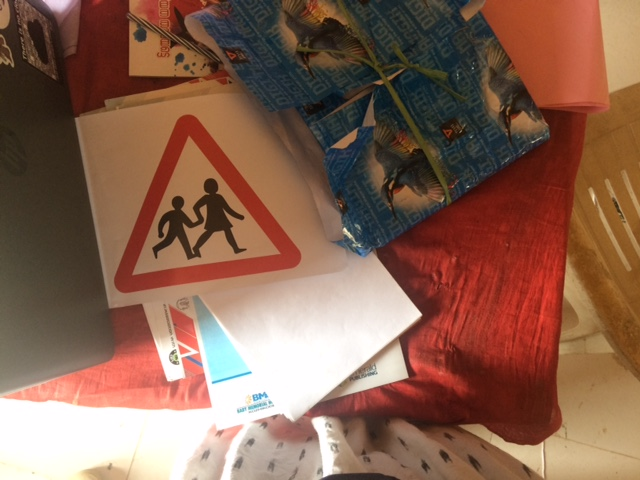sign: (112, 113, 303, 295)
